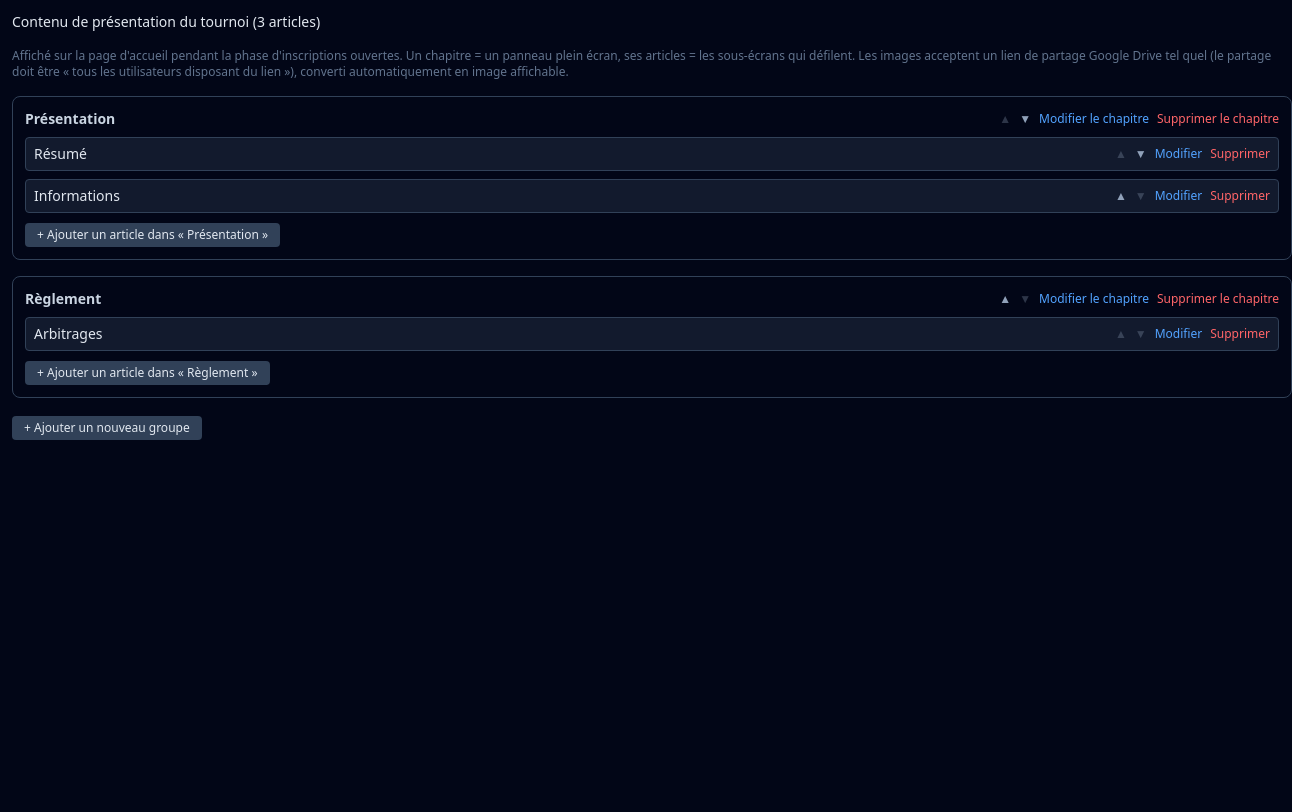
PresentationArticlesAdmin › contrôle de l'image de chapitre › aperçu › shows no preview for an invalide URL
Click the 2nd button "Modifier le chapitre". click: x=1094, y=299
box: top-left (1039, 291), bottom-right (1149, 307)
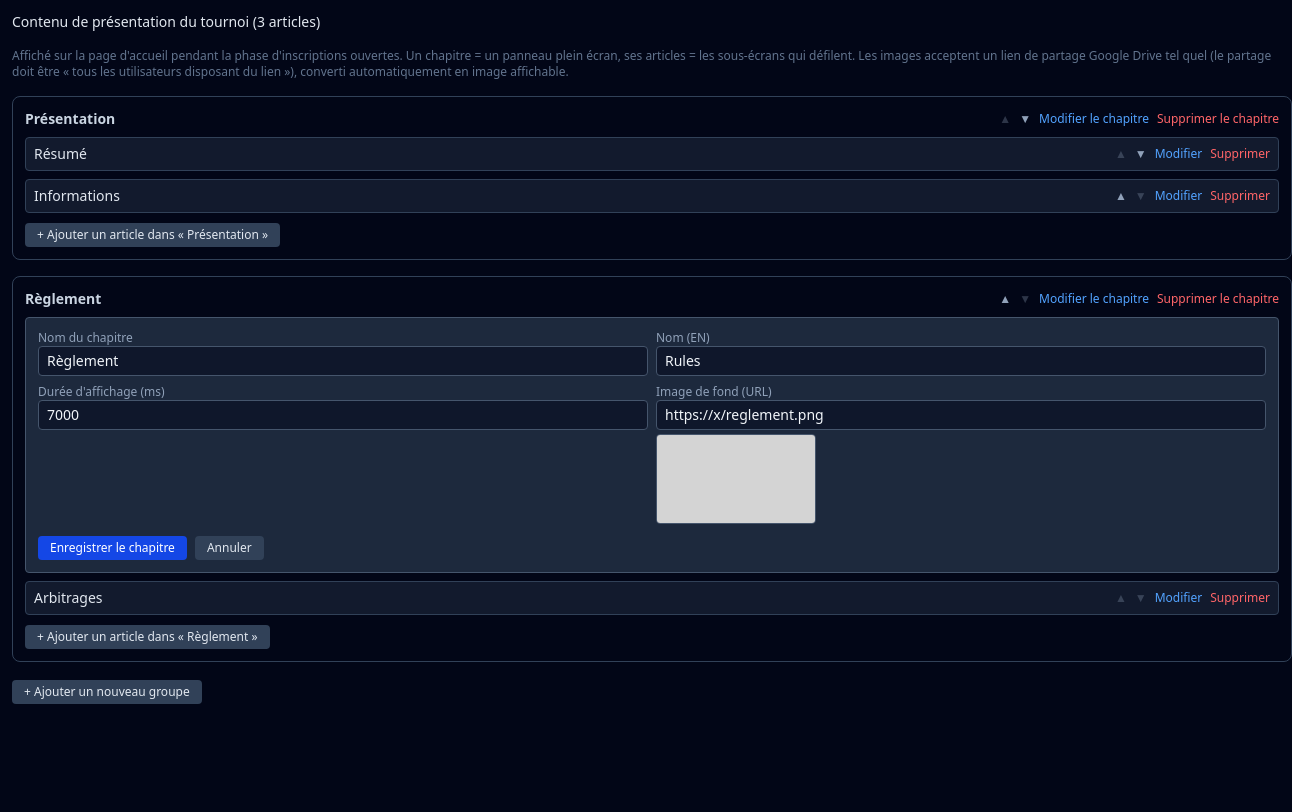
Replace the text in the field with test id "groupe-image-input" with "javascript:alert(1)". click: x=961, y=415
box: top-left (656, 400), bottom-right (1266, 430)
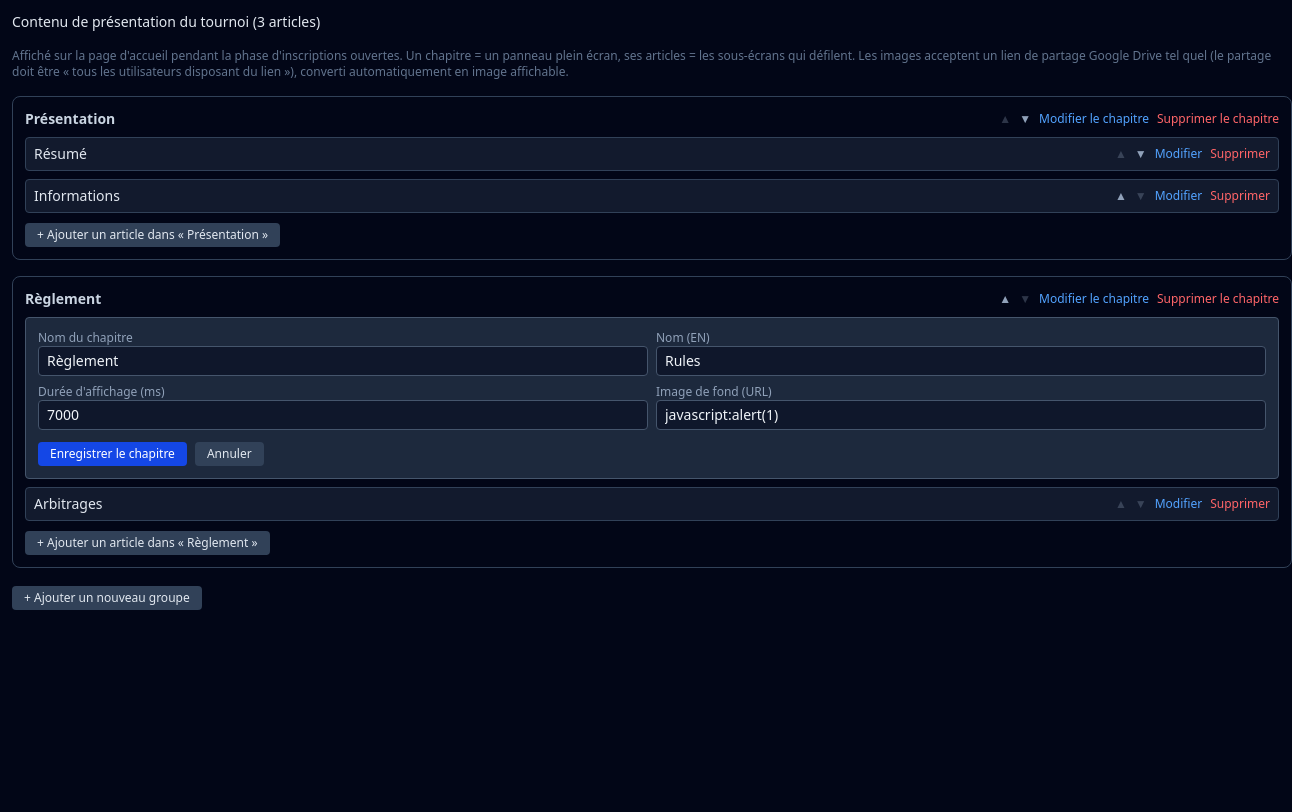
Check: the picture with test id "groupe-image-preview" is gone
